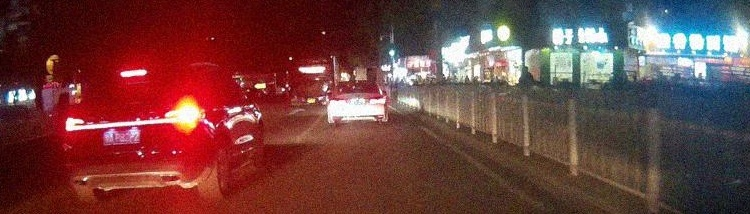L_light: (65, 117, 109, 132), (330, 98, 346, 104)
R_light: (164, 107, 206, 126), (366, 97, 384, 104)
T_light: (120, 69, 146, 76), (351, 81, 362, 84)
night-no: (328, 79, 386, 125)
night-right: (63, 62, 224, 206)
